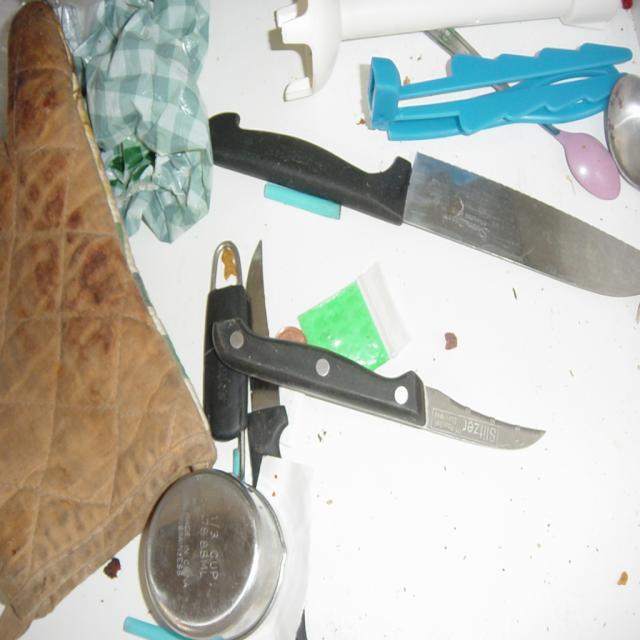Knife: (210, 112, 640, 296), (214, 319, 544, 449), (248, 379, 289, 487), (246, 242, 269, 336)
